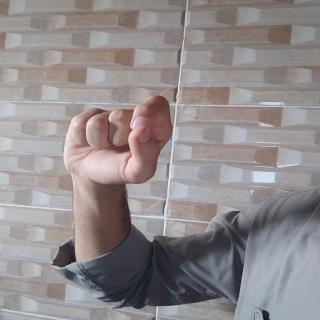FAA: (59, 92, 178, 200)
